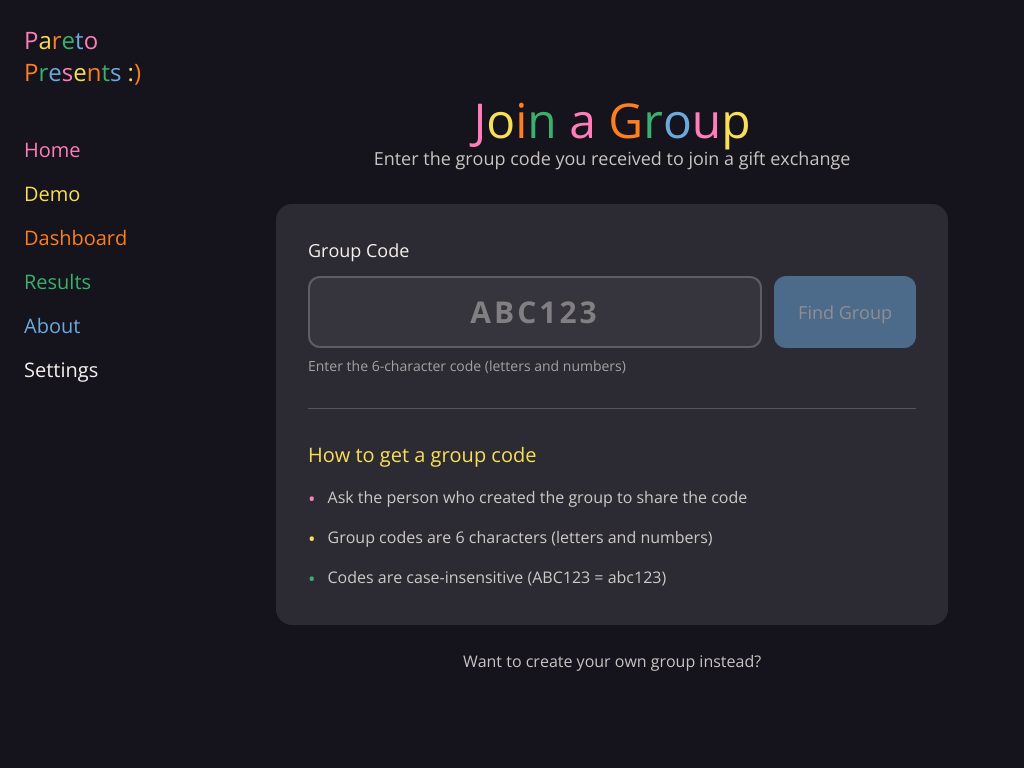
Test: JoinGroupPage › Group preview › shows error for invalid group code
This screenshot has width=1024, height=768.
Type "INVALID" into the field with placeholder "ABC123" at (535, 312), box [308,276,762,348]
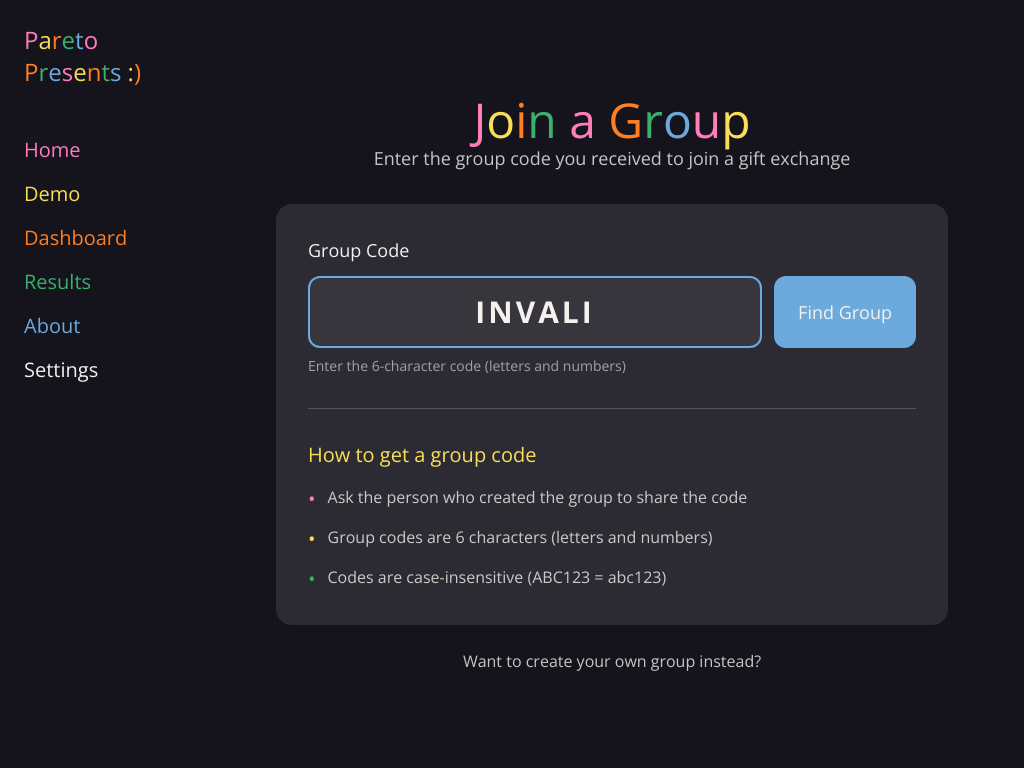
Click the button "Find Group" at (845, 312), box [774,276,916,348]
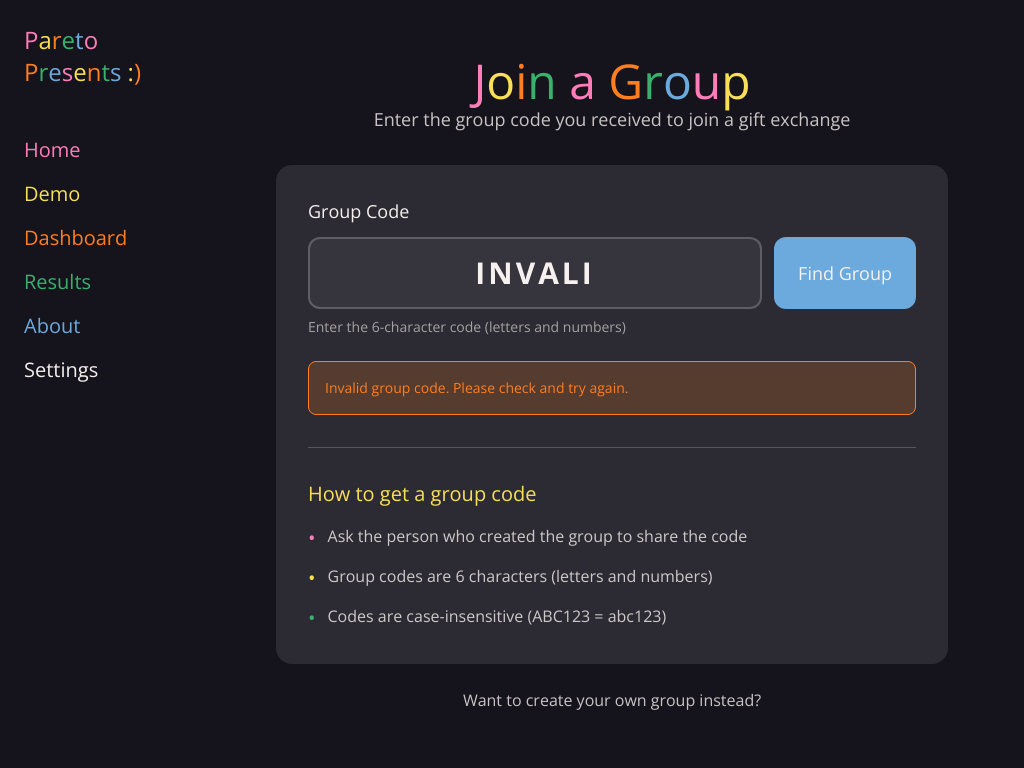
Expected: the text "Invalid group code. Please check and try again." is shown, [325,378,628,396]
